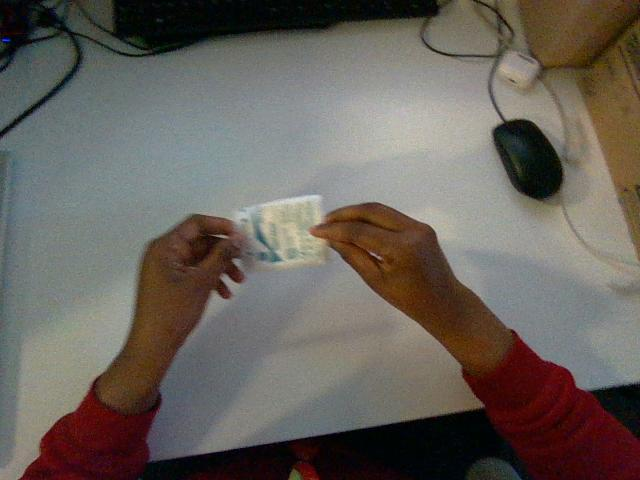gauze: (234, 195, 327, 270)
